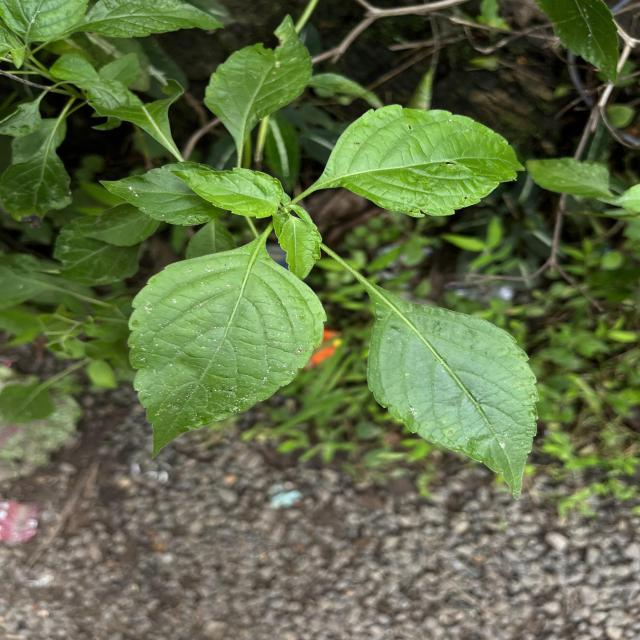Ocimum gratissimum: (124, 225, 331, 463), (340, 261, 543, 502), (301, 102, 531, 220), (199, 10, 315, 156), (164, 162, 288, 224)
